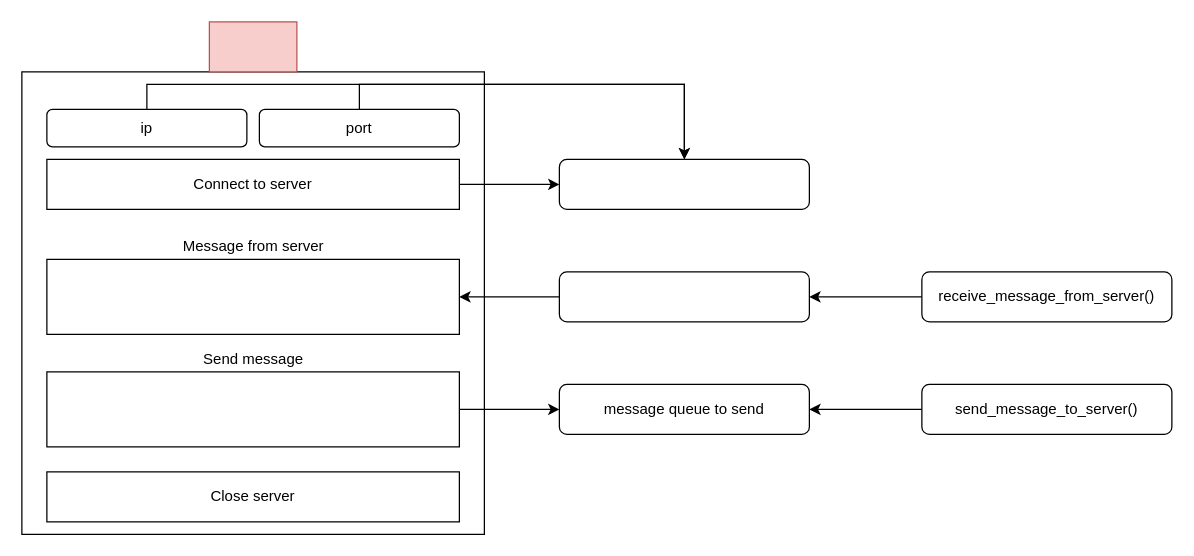
Image size: 1194x556. Some labels were removed from this diagram. Here are the shapes that lost their labels. From the top down, the centre of each, then its label:
At (x=252, y=46): "Client".
At (x=683, y=183): "connect_server(ip, port)".
At (x=683, y=296): "message queue to receive".
